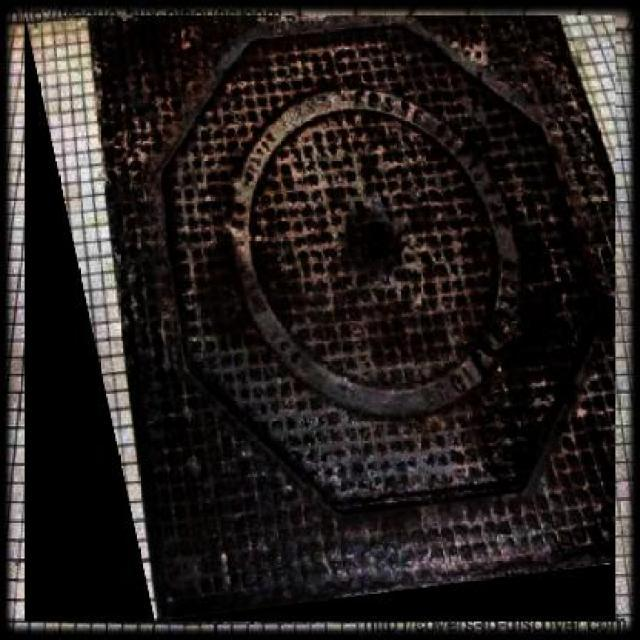Manhole: (24, 16, 616, 622)
